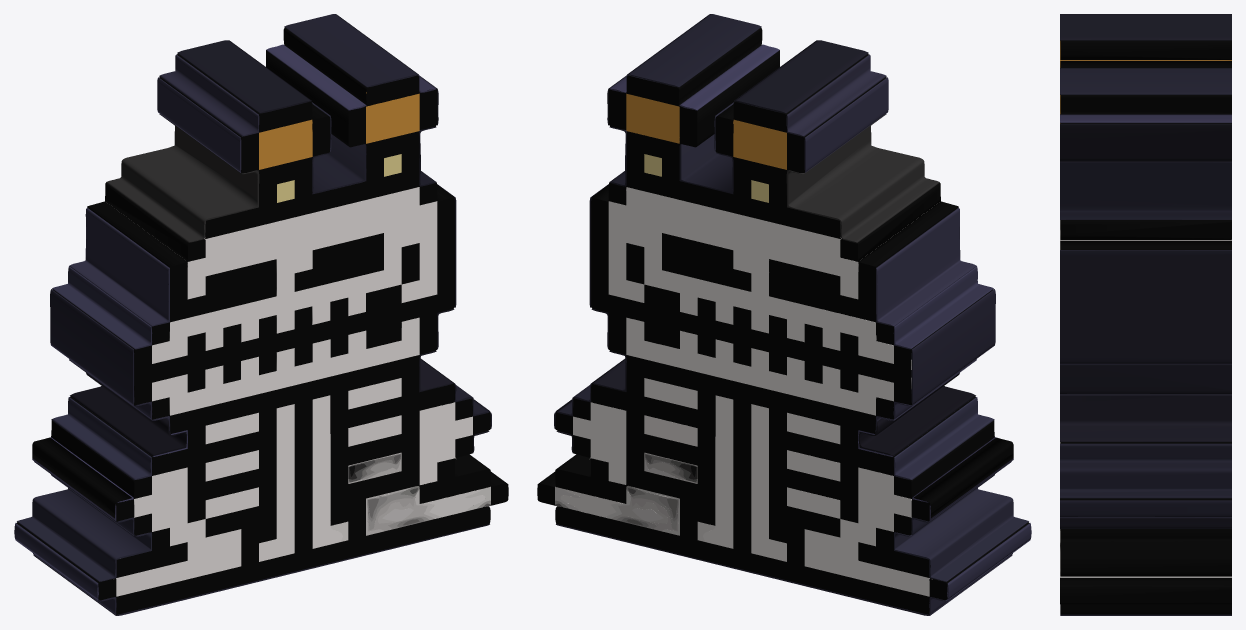
Rendered from Toadz_6708.glb.
3 renders of one model, left to right at view 1: azimuth 30°, elevation 25°; view 2: azimuth 150°, elevation 25°; view 3: azimuth 270°, elevation 25°, orthographic. The views are drawn at different scales.
Visible parts, largest first — view 1: Curve; view 2: Curve; view 3: Curve.
Part boxes in pixels (x1,y1,x2,y2): Curve: (14, 14, 508, 615); Curve: (537, 14, 1031, 615); Curve: (1060, 14, 1231, 615).
Bounding box in the file's own units: 2.87 × 3.13 × 1.
